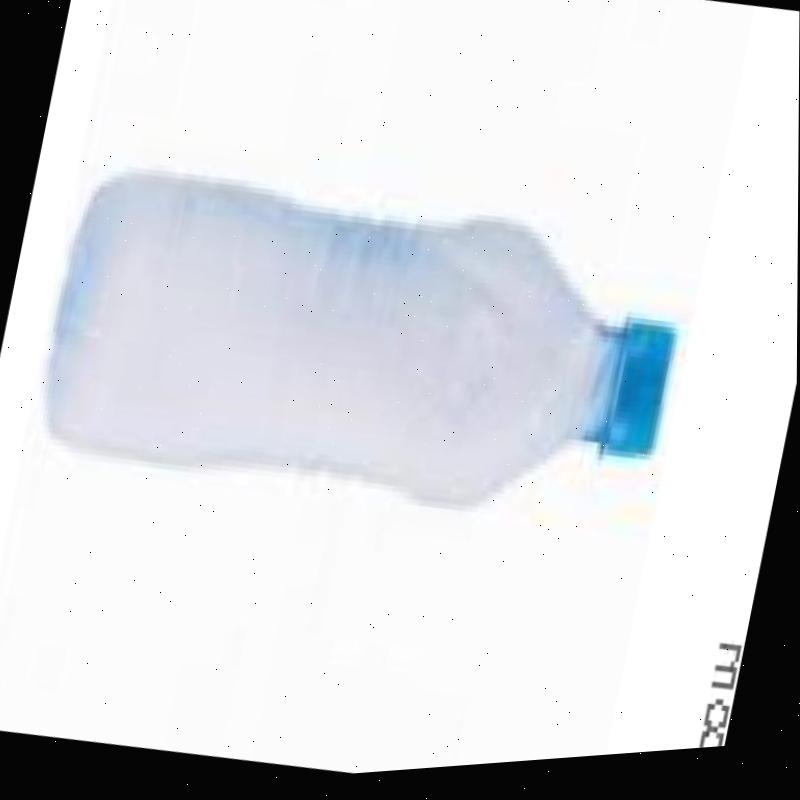botella: (30, 124, 695, 574)
